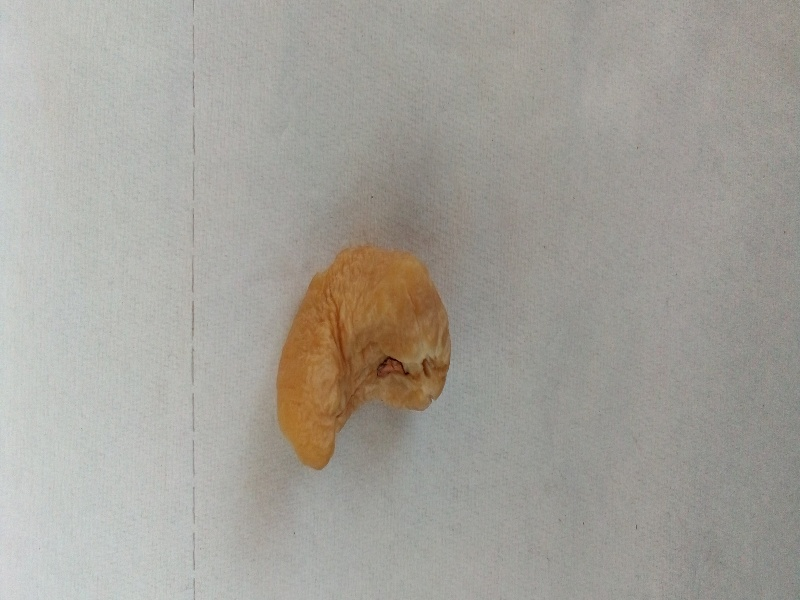cashew: (254, 222, 483, 489)
